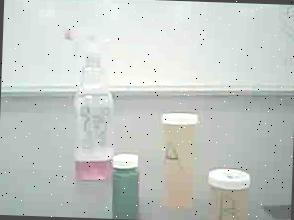Bottle A: (154, 104, 200, 218)
Bottle B: (198, 158, 256, 220)
Bottle C: (108, 150, 140, 220)
hazard: (54, 20, 122, 184)
